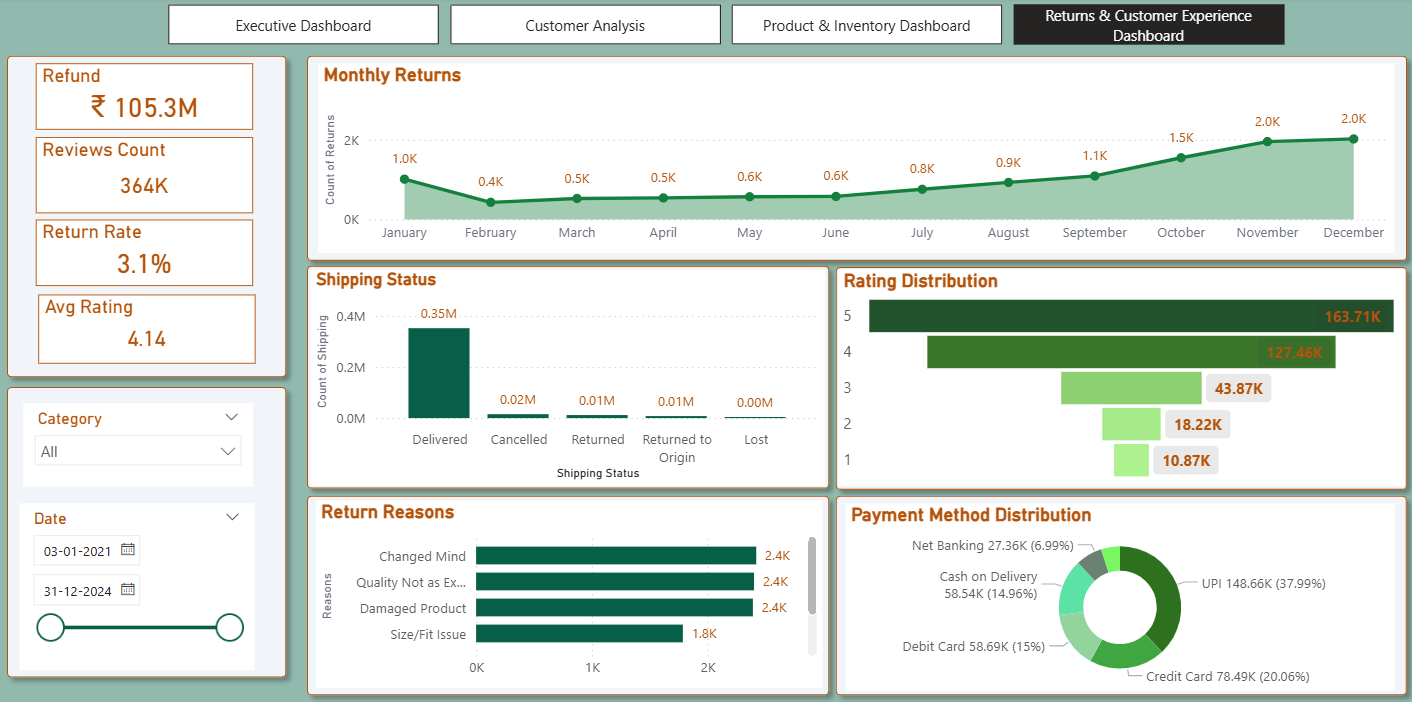

The dashboard page shown, as its layout file describes it:
{"tool":"powerbi","page":{"name":"Returns & Customer Experience Dashboard","canvas":[1280,720],"ordinal":3},"visuals":[{"type":"shape","box":[0,343,270,280],"z":0},{"type":"shape","box":[0,44,270,308],"z":1000},{"type":"shape","box":[747,235,533,219],"z":2000},{"type":"shape","box":[271,441,489,198],"z":3000},{"type":"shape","box":[747,441,533,198],"z":4000},{"type":"shape","box":[270,233,489,219],"z":5000},{"type":"shape","box":[270,44,1010,203],"z":6000},{"type":"card","title":"Return Rate","fields":{"Values":["returns.Return Rate"]},"box":[35,201,196,60],"z":7000},{"type":"card","title":"Refund","fields":{"Values":["returns.Total Refund"]},"box":[35,60,196,60],"z":8000},{"type":"card","title":"Reviews Count","fields":{"Values":["reviews.Total Reviews"]},"box":[35,126,196,69],"z":9000},{"type":"card","title":"Avg Rating","fields":{"Values":["reviews.Average Rating"]},"box":[37,268,196,62],"z":10000},{"type":"clusteredBarChart","title":"Return Reasons","fields":{"Y":["CountNonNull(returns.return_id)"],"Category":["returns.return_reason"]},"box":[287,454,457,169],"z":11000},{"type":"areaChart","title":"Monthly Returns","fields":{"Category":["returns.return_date.Variation.Date Hierarchy.Month"],"Y":["CountNonNull(returns.return_id)"]},"box":[290,60,970,171],"z":12000},{"type":"funnel","title":"Rating Distribution","fields":{"Category":["reviews.rating"],"Y":["CountNonNull(reviews.review_id)"]},"box":[759,246,511,195],"z":13000},{"type":"columnChart","title":"Shipping Status","fields":{"Category":["shipping.shipping_status"],"Y":["CountNonNull(shipping.shipping_id)"]},"box":[283,246,464,195],"z":14000},{"type":"donutChart","title":"Payment Method Distribution","fields":{"Category":["orders.payment_method"],"Y":["CountNonNull(orders.order_id)"]},"box":[765,456,495,169],"z":15000},{"type":"slicer","fields":{"Values":["categories.category_name"]},"box":[24,366,207,75],"z":16000},{"type":"slicer","fields":{"Values":["orders.order_date"]},"box":[20,456,211,150],"z":17000},{"type":"pageNavigator","box":[154,7,1008,36],"z":18000}]}

Visuals, with their boxes on the page's 1280x720 design canvas (x1, y1, x2, y2). These are canvas units, not pixel positions in the 1412x702 screenshot, which may show the page scaled, cropped or inside an application window:
shape: 0:343:270:623
shape: 0:44:270:352
shape: 747:235:1280:454
shape: 271:441:760:639
shape: 747:441:1280:639
shape: 270:233:759:452
shape: 270:44:1280:247
"Return Rate" card: 35:201:231:261
"Refund" card: 35:60:231:120
"Reviews Count" card: 35:126:231:195
"Avg Rating" card: 37:268:233:330
"Return Reasons" clusteredBarChart: 287:454:744:623
"Monthly Returns" areaChart: 290:60:1260:231
"Rating Distribution" funnel: 759:246:1270:441
"Shipping Status" columnChart: 283:246:747:441
"Payment Method Distribution" donutChart: 765:456:1260:625
slicer - categories.category_name: 24:366:231:441
slicer - orders.order_date: 20:456:231:606
pageNavigator: 154:7:1162:43
